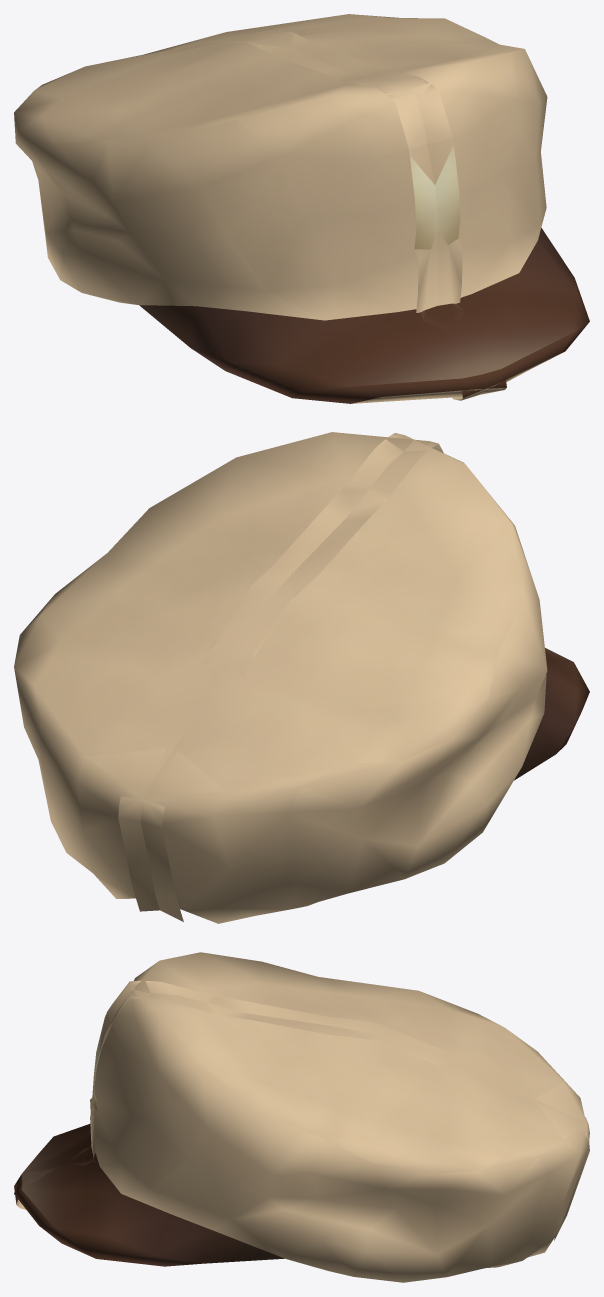
Rendered from helmet_cap.dae.
The picture shows the model from 3 angles, top to bottom: view 1: azimuth 30°, elevation 25°; view 2: azimuth 150°, elevation 25°; view 3: azimuth 270°, elevation 25°; orthographic projection. The views are drawn at different scales.
Parts seen in each view (by area): view 1: Mesh1; view 2: Mesh1; view 3: Mesh1.
Boxes of the visible parts, x1,y1,x2,y2 form: Mesh1: [14, 14, 589, 403]; Mesh1: [14, 432, 589, 923]; Mesh1: [14, 952, 589, 1282].
Size of the model in its own units: 0.4612 by 0.6303 by 0.2965.
